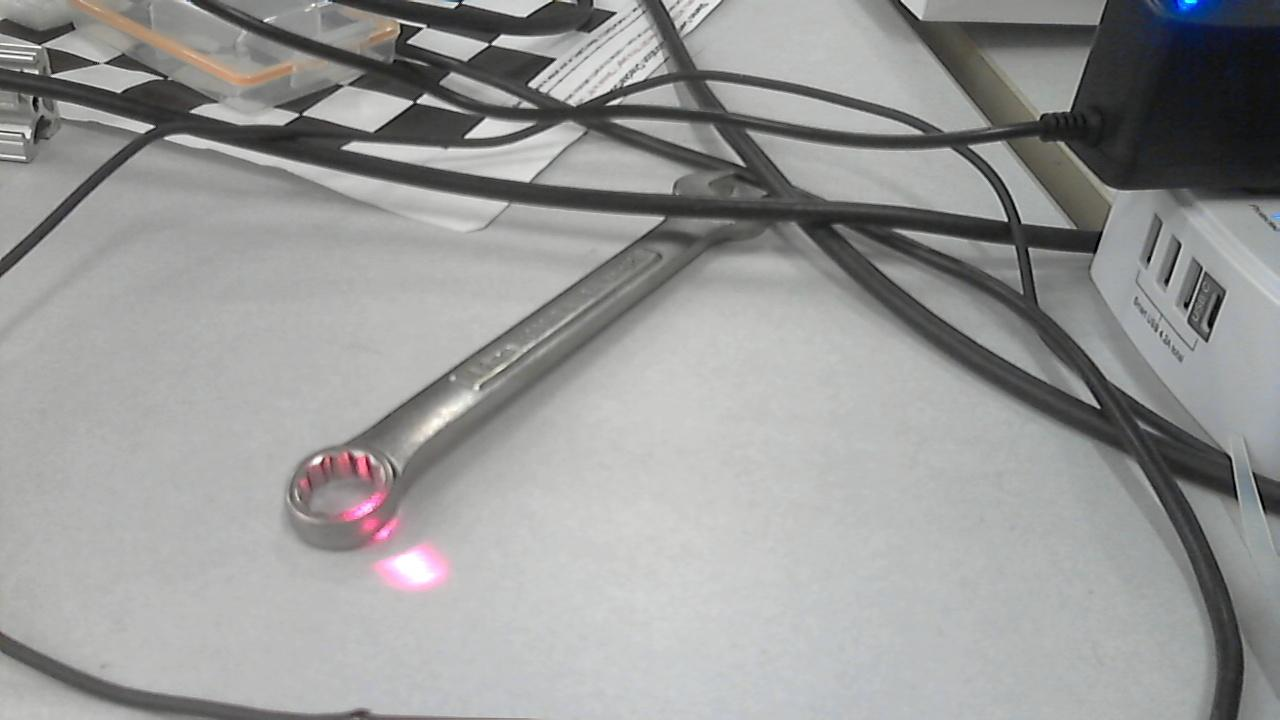Object desktop tape dispenser - Material plastic tape - Pdfname 8pMd29OsIRjD: (286, 451, 394, 539)
